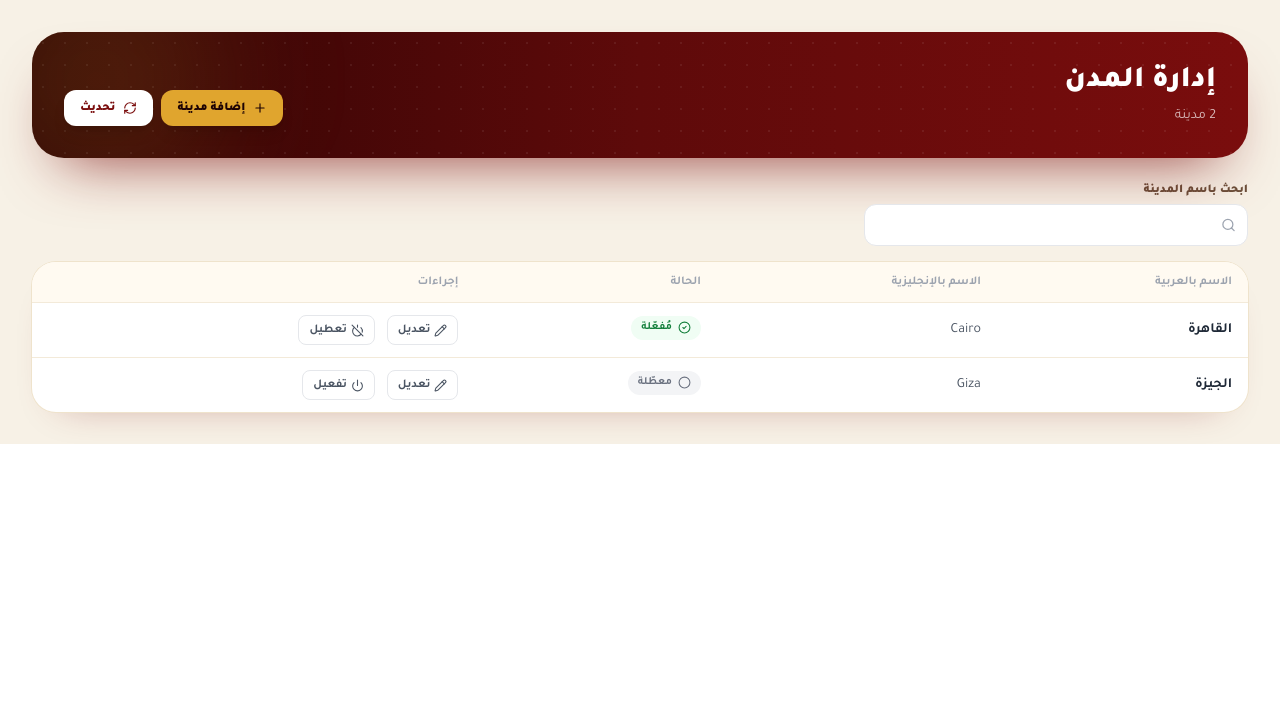
Test: the governorate picker drawer replaces the add/edit name form › opens with nothing to save and enables Apply only once something is ticked
Expected: the text "القاهرة" is shown, [997,302,1248,358]
Click the button "إضافة مدينة" at (222, 108), box [161,90,283,126]
(page scrolled)
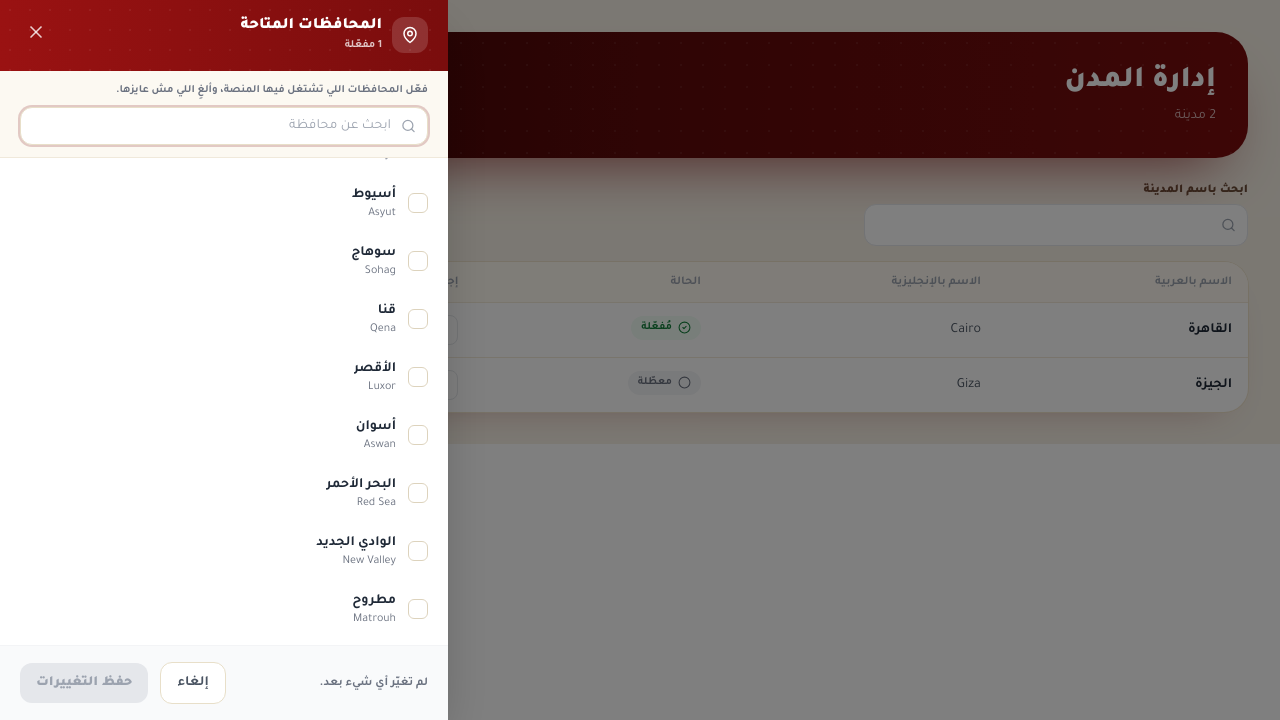
Expected: the dialog is shown, [0,0,448,719]
Expected: the button "حفظ التغييرات" is disabled, [20,663,148,703]
Expected: the text "لم تغيّر أي شيء بعد." is shown, [320,677,428,689]
Click the checkbox labelled "أسوان Aswan" at (392, 436), box [356,420,428,451]
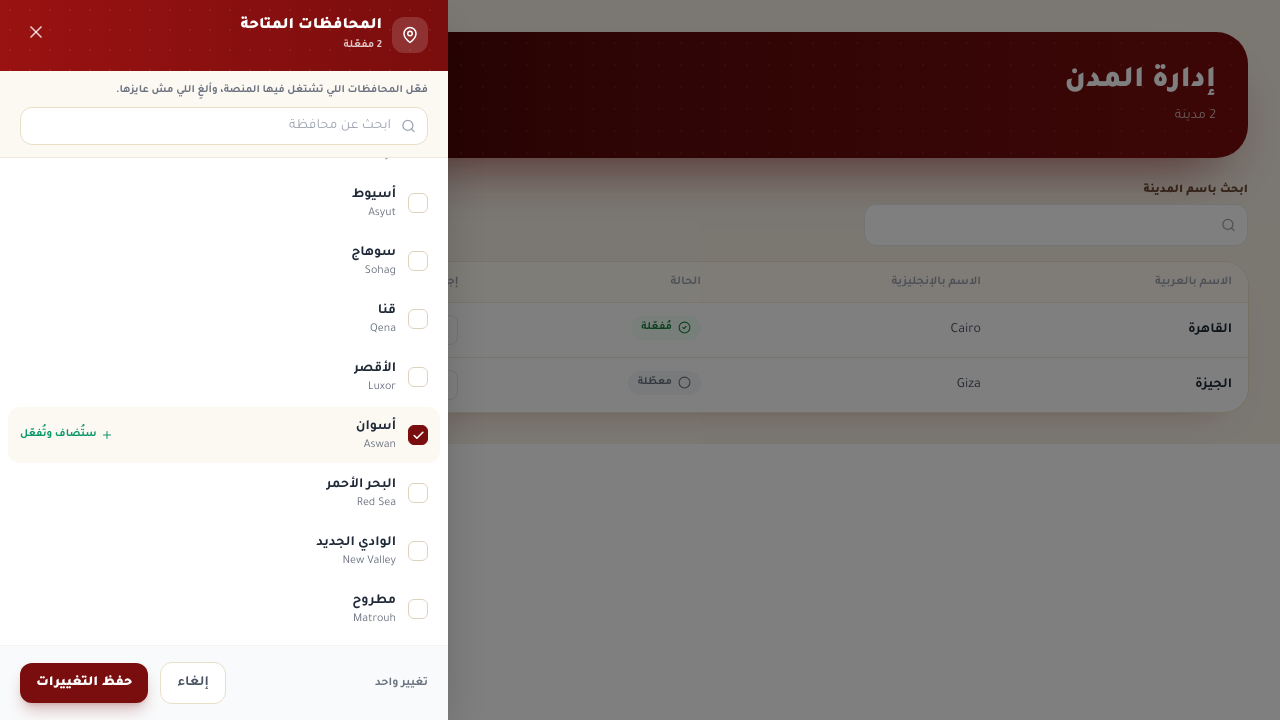
Expected: the button "حفظ التغييرات" is enabled, [20,663,148,703]
Expected: the text "تغيير واحد" is shown, [375,677,428,689]
Click the checkbox labelled "أسوان Aswan ستُضاف وتُفعّل" at (376, 427), box [8,407,440,463]
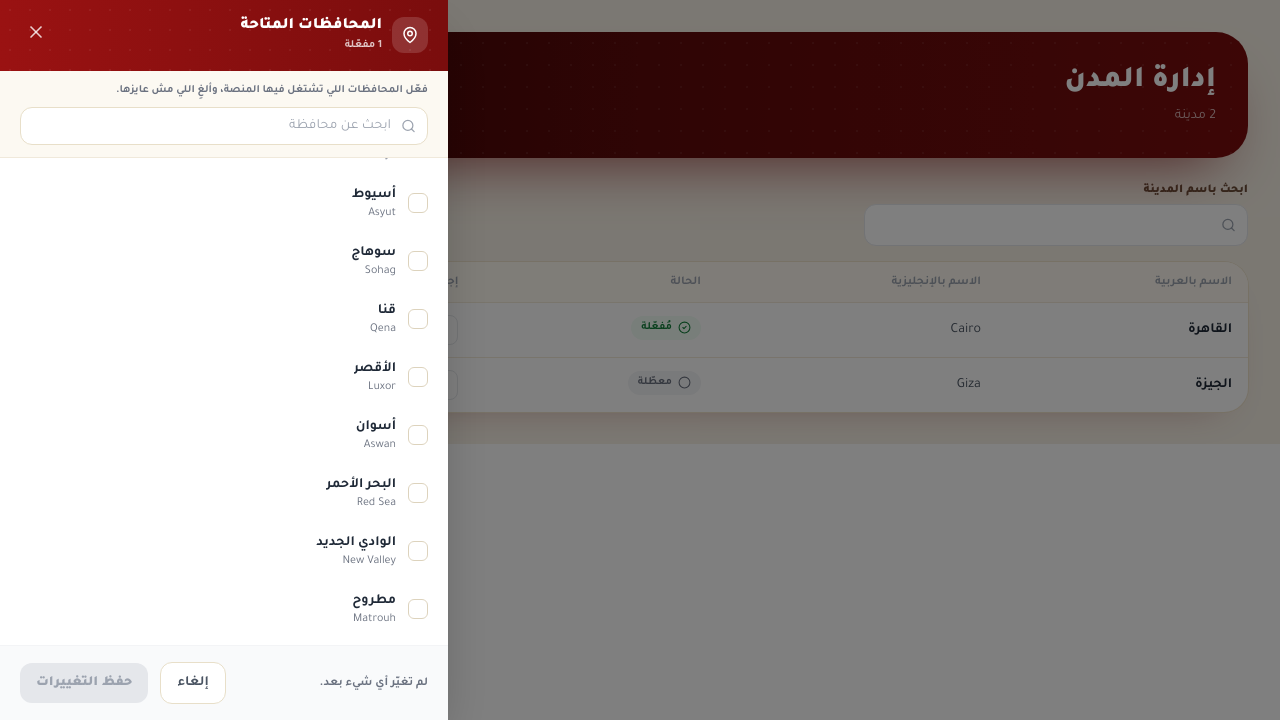
Expected: the button "حفظ التغييرات" is disabled, [20,663,148,703]
